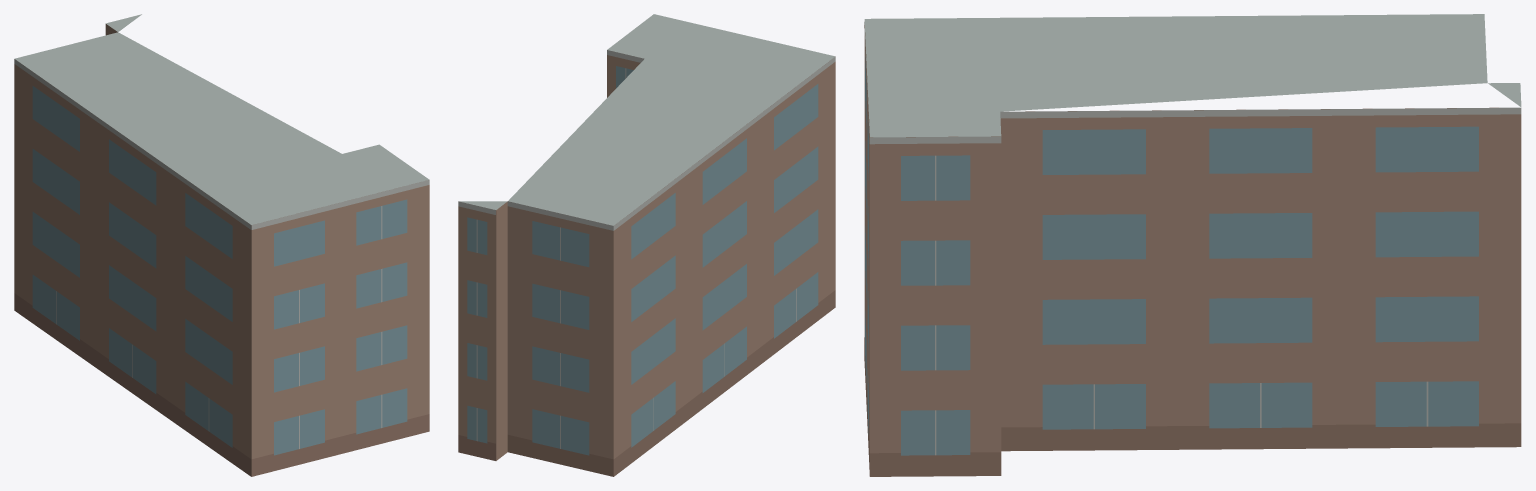
Rendered from residential-86b33ca1-ead4-4222-89d7-4218f8ea1421.glb.
The picture shows the model from 3 angles, left to right: view 1: azimuth 30°, elevation 25°; view 2: azimuth 150°, elevation 25°; view 3: azimuth 270°, elevation 25°; orthographic projection. The views are drawn at different scales.
Parts seen in each view (by area): view 1: residential-86b33ca1-ead4-4222-89d7-4218f8ea1421.tmp; view 2: residential-86b33ca1-ead4-4222-89d7-4218f8ea1421.tmp; view 3: residential-86b33ca1-ead4-4222-89d7-4218f8ea1421.tmp.
Boxes of the visible parts, <box> form: residential-86b33ca1-ead4-4222-89d7-4218f8ea1421.tmp: <box>14,14,429,476</box>; residential-86b33ca1-ead4-4222-89d7-4218f8ea1421.tmp: <box>458,14,835,476</box>; residential-86b33ca1-ead4-4222-89d7-4218f8ea1421.tmp: <box>864,14,1521,476</box>.
Bounding box in the file's own units: 9.52 × 12.2 × 21.41.
